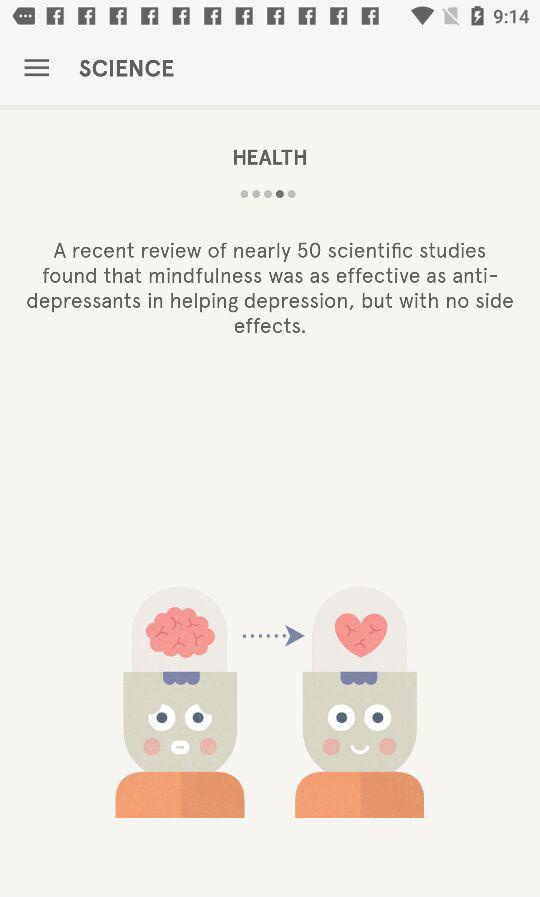Icon: (24, 58, 51, 78)
Image: (115, 584, 424, 818)
PageIndicator: (240, 190, 297, 200)
Text: (27, 242, 514, 335), (80, 59, 175, 79), (234, 149, 307, 167)
Toolbar: (1, 27, 540, 107)
UpperTaskBar: (1, 1, 540, 28)
